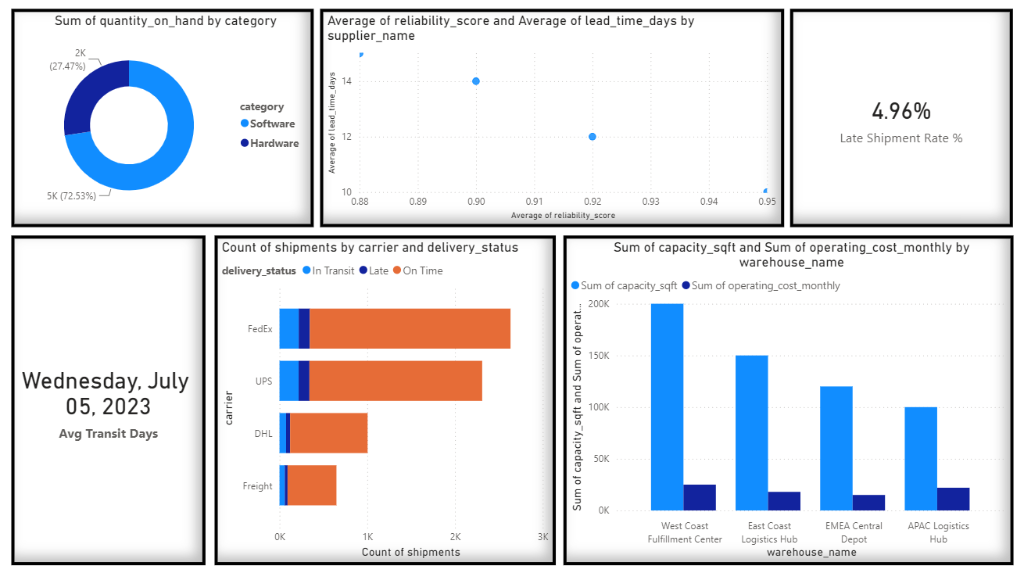

What the dashboard file says about the page in this screenshot:
{"tool":"powerbi","page":{"name":"Operations","canvas":[1280,720],"ordinal":2},"visuals":[{"type":"scatterChart","fields":{"Category":["suppliers.supplier_name"],"X":["Avg(suppliers.reliability_score)"],"Y":["Avg(suppliers.lead_time_days)"]},"box":[400,11.4,582.9,274.3],"z":0},{"type":"card","fields":{"Values":["_Measures (2).LateShipmentRatePct"]},"box":[991.4,11.4,280,274.3],"z":1000},{"type":"donutChart","fields":{"Category":["products.category"],"Y":["Sum(inventory.quantity_on_hand)"]},"box":[12.9,11.4,380,274.3],"z":2000},{"type":"clusteredColumnChart","fields":{"Category":["warehouses.warehouse_name"],"Y":["Sum(warehouses.capacity_sqft)","Sum(warehouses.operating_cost_monthly)"]},"box":[705.7,295.7,565.7,414.3],"z":5000},{"type":"barChart","fields":{"Series":["shipments.delivery_status"],"Category":["shipments.carrier"],"Y":["Count(shipments)"]},"box":[267.1,295.7,428.6,414.3],"z":6000},{"type":"card","fields":{"Values":["Min(shipments.actual_delivery_date)"]},"box":[12.9,295.7,244.3,414.3],"z":7000}]}

Visuals, with their boxes in screenshot pixels (x1, y1, x2, y2), scaled from the page's 1280x720 canvas onto the 1024x571 screenshot:
scatterChart - suppliers.supplier_name x Avg(suppliers.reliability_score): box=[320, 9, 786, 227]
card - _Measures (2).LateShipmentRatePct: box=[793, 9, 1017, 227]
donutChart - products.category x Sum(inventory.quantity_on_hand): box=[10, 9, 314, 227]
clusteredColumnChart - warehouses.warehouse_name x Sum(warehouses.capacity_sqft): box=[565, 235, 1017, 563]
barChart - shipments.delivery_status x shipments.carrier: box=[214, 235, 557, 563]
card - Min(shipments.actual_delivery_date): box=[10, 235, 206, 563]
